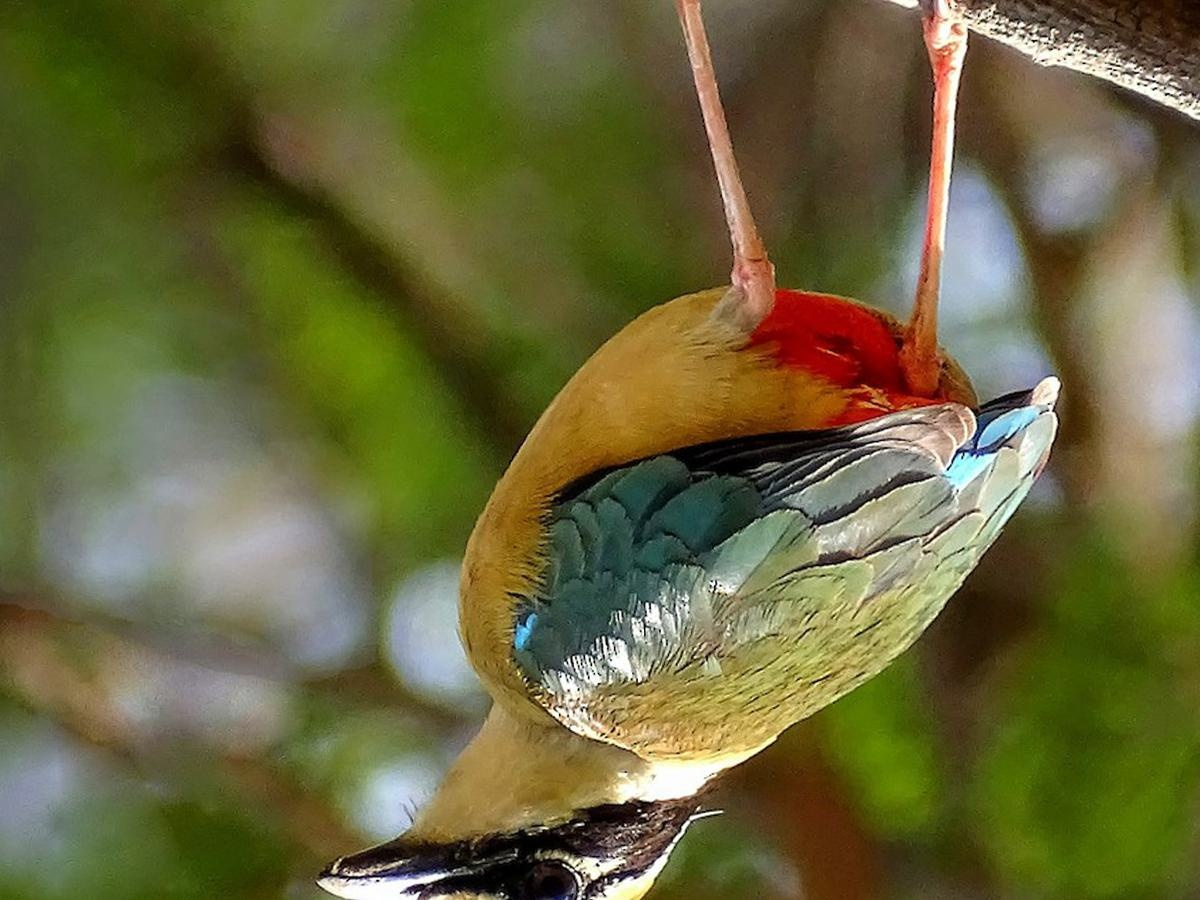pitta: (190, 258, 1097, 900)
